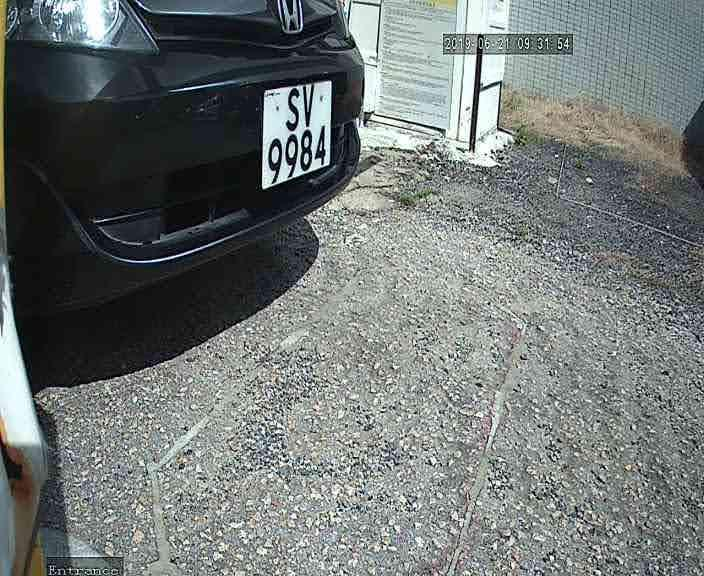bottom_left_lp: (257, 183, 271, 194)
bottom_right_lp: (323, 158, 334, 168)
brand: (273, 1, 307, 38)
left_headlight: (42, 1, 123, 49)
right_headlight: (331, 1, 360, 39)
top_left_lp: (259, 85, 274, 99)
top_right_lp: (324, 75, 335, 89)
